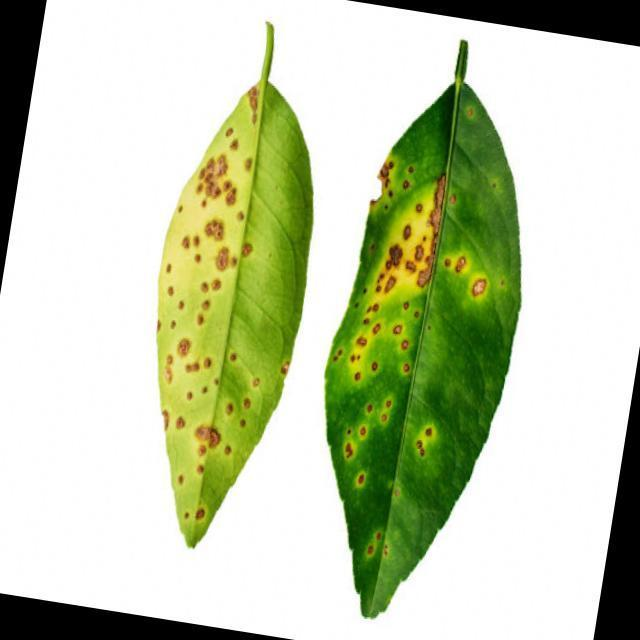Bacterial Spot: (304, 143, 514, 574), (122, 78, 308, 540)
